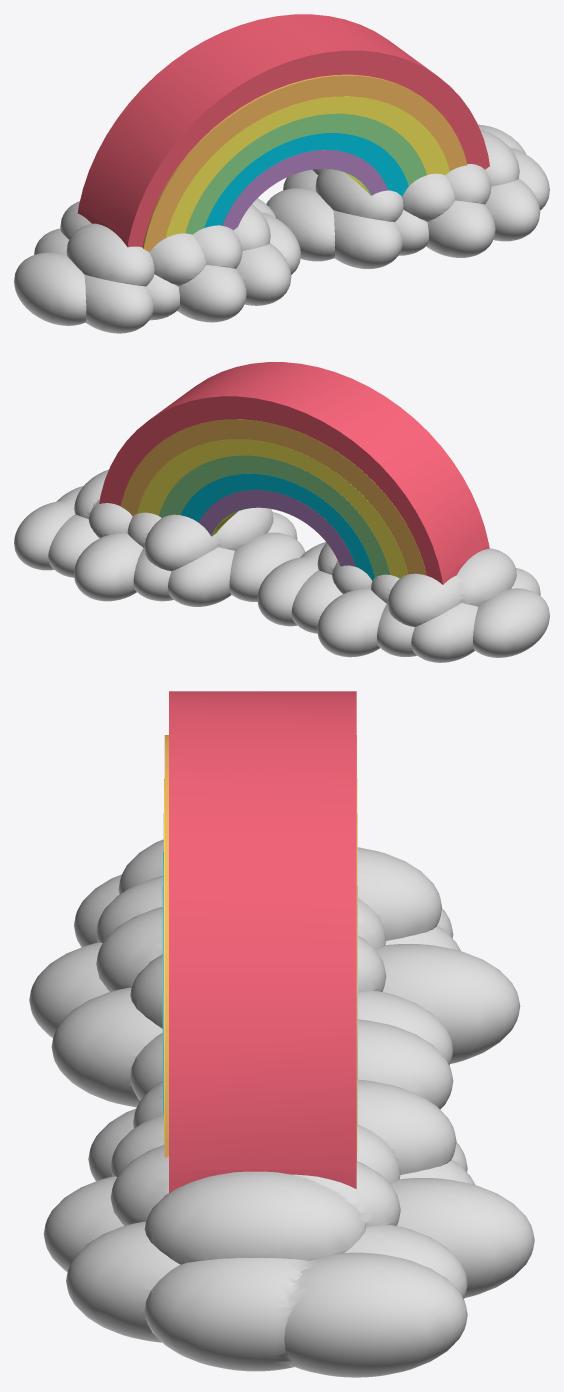
Rendered from rainbow_c.glb.
3 renders of one model, top to bottom at view 1: azimuth 30°, elevation 25°; view 2: azimuth 150°, elevation 25°; view 3: azimuth 270°, elevation 25°, orthographic. The views are drawn at different scales.
Parts seen in each view (by area): view 1: Object_4, Object_2, Object_3, Object_5, Object_7, Object_6, Object_8; view 2: Object_4, Object_2, Object_3, Object_5, Object_7, Object_6, Object_8; view 3: Object_4, Object_2, Object_3.
Boxes of the visible parts, left/top/right/bottom form: Object_4: left=14, top=124, right=549, bottom=333; Object_2: left=77, top=14, right=489, bottom=247; Object_3: left=142, top=74, right=467, bottom=252; Object_5: left=165, top=96, right=449, bottom=238; Object_7: left=185, top=113, right=426, bottom=234; Object_6: left=204, top=133, right=408, bottom=227; Object_8: left=222, top=150, right=387, bottom=230; Object_4: left=14, top=469, right=549, bottom=662; Object_2: left=99, top=362, right=489, bottom=584; Object_3: left=120, top=419, right=426, bottom=575; Object_5: left=137, top=439, right=407, bottom=578; Object_7: left=159, top=455, right=390, bottom=577; Object_6: left=180, top=473, right=374, bottom=580; Object_8: left=199, top=490, right=355, bottom=566; Object_4: left=29, top=839, right=534, bottom=1377; Object_2: left=169, top=691, right=356, bottom=1193; Object_3: left=164, top=735, right=356, bottom=1161.
Size of the model in its own units: 21.47 by 8.91 by 9.55.
